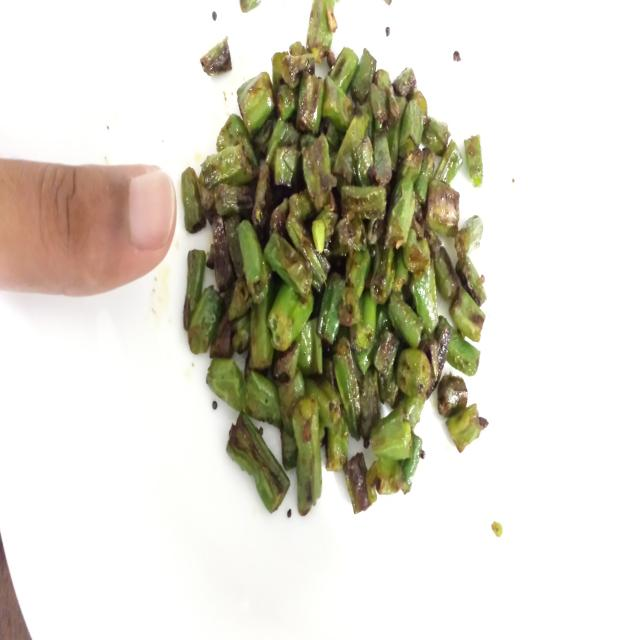bean: (177, 6, 518, 546)
